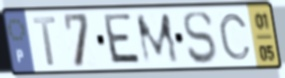7: (62, 12, 93, 70)
C: (217, 11, 253, 62)
E: (103, 12, 144, 67)
M: (133, 10, 182, 67)
S: (181, 9, 218, 66)
T: (31, 15, 58, 69)
